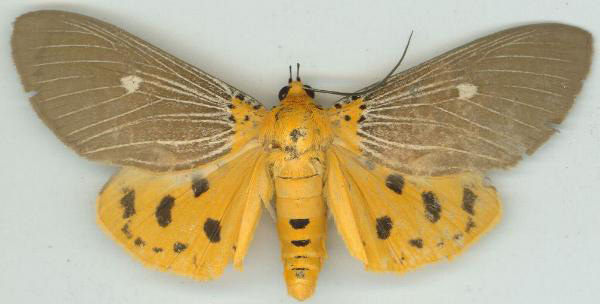Agape chloropyga: (3, 2, 598, 299)
moth: (5, 4, 600, 301)
